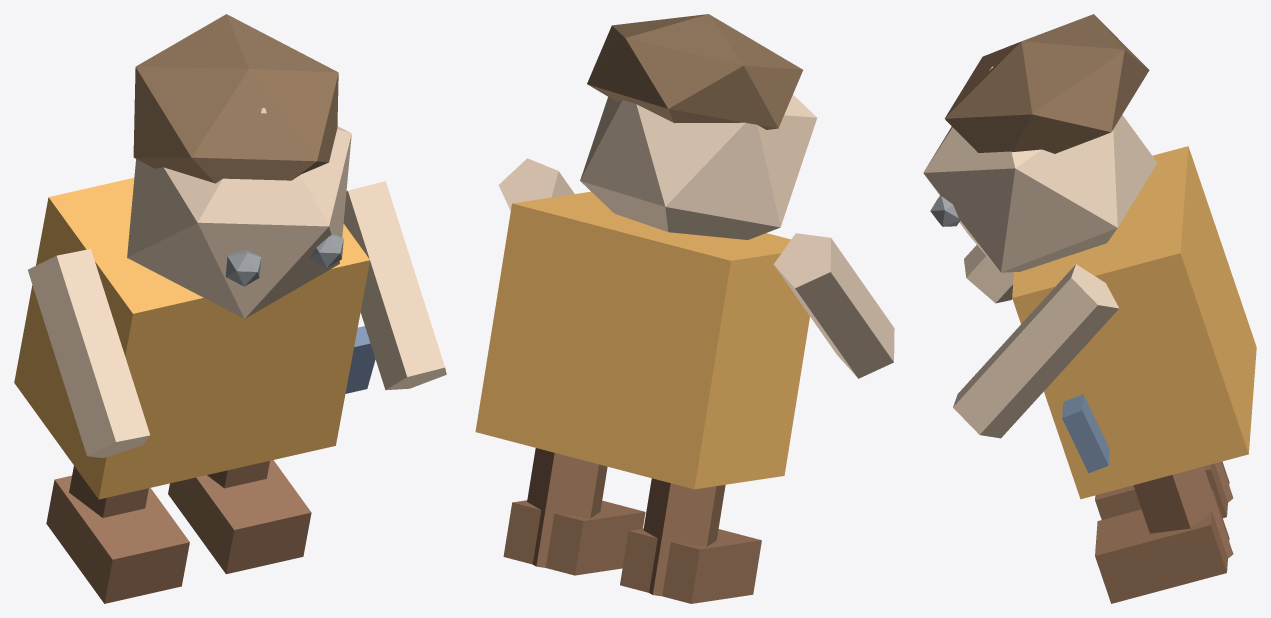
Rendered from npcpose_villager_walk_11.glb.
3 views of the same model, side by side, from view 1: azimuth 30°, elevation 25°; view 2: azimuth 150°, elevation 25°; view 3: azimuth 270°, elevation 25° (orthographic). The views are drawn at different scales.
Parts seen in each view (by area): view 1: npcpose; view 2: npcpose; view 3: npcpose.
Boxes of the visible parts, box(x1,y1,x2,y2) form: npcpose: box(14, 14, 446, 603); npcpose: box(475, 14, 894, 603); npcpose: box(923, 14, 1256, 603).
Size of the model in its own units: 0.7041 by 1.05 by 0.6054.
